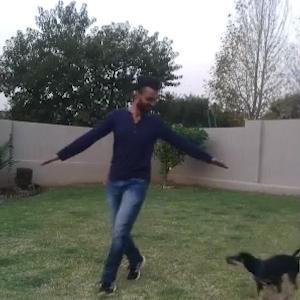land: (59, 76, 232, 267)
